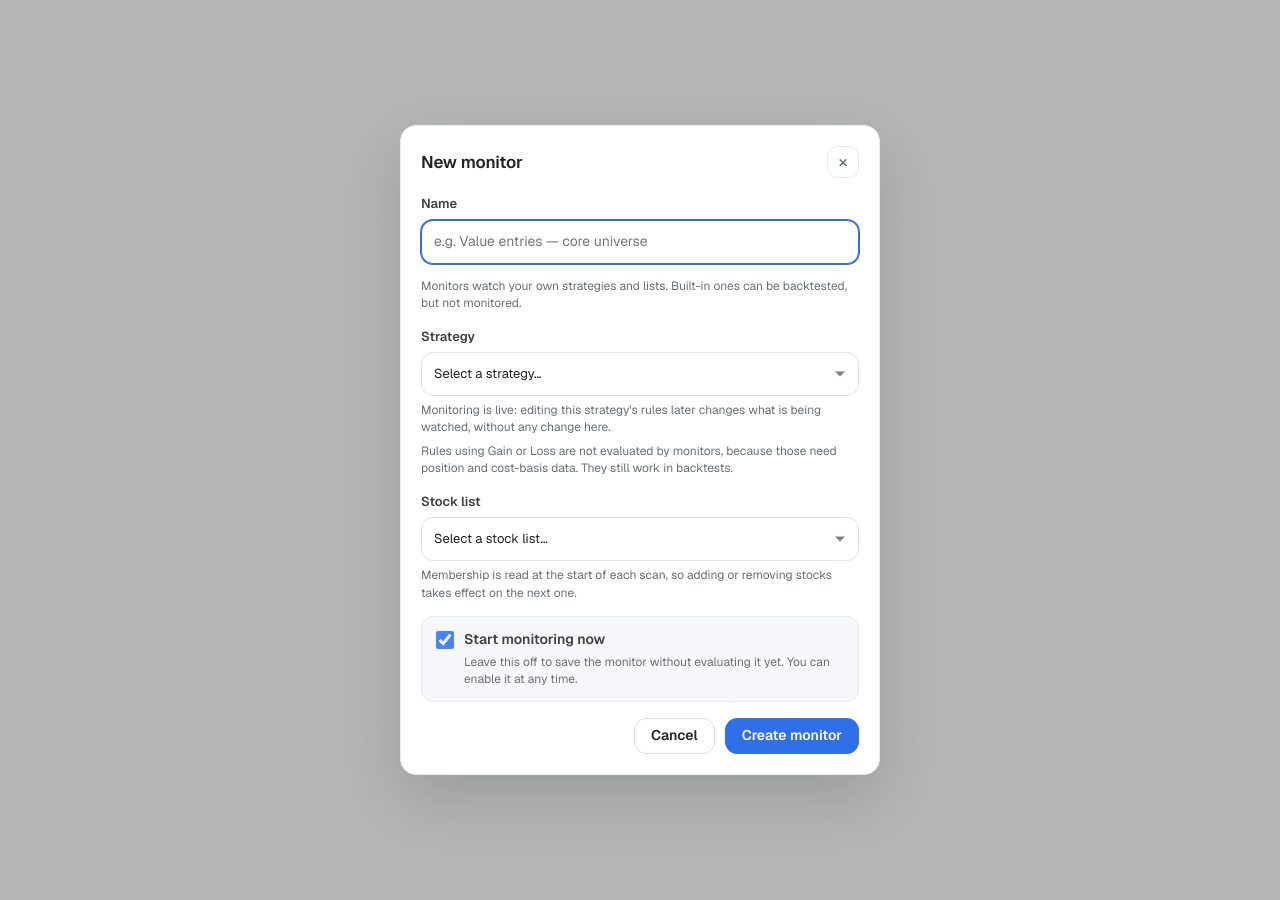
Test: MonitorFormDialog — create › clears a field's complaint as soon as it is answered
Check: the form with test id "monitor-form" is shown, box left=421, top=194, right=859, bottom=754
Click the button with test id "submit-monitor" at (792, 736), box left=725, top=718, right=859, bottom=754
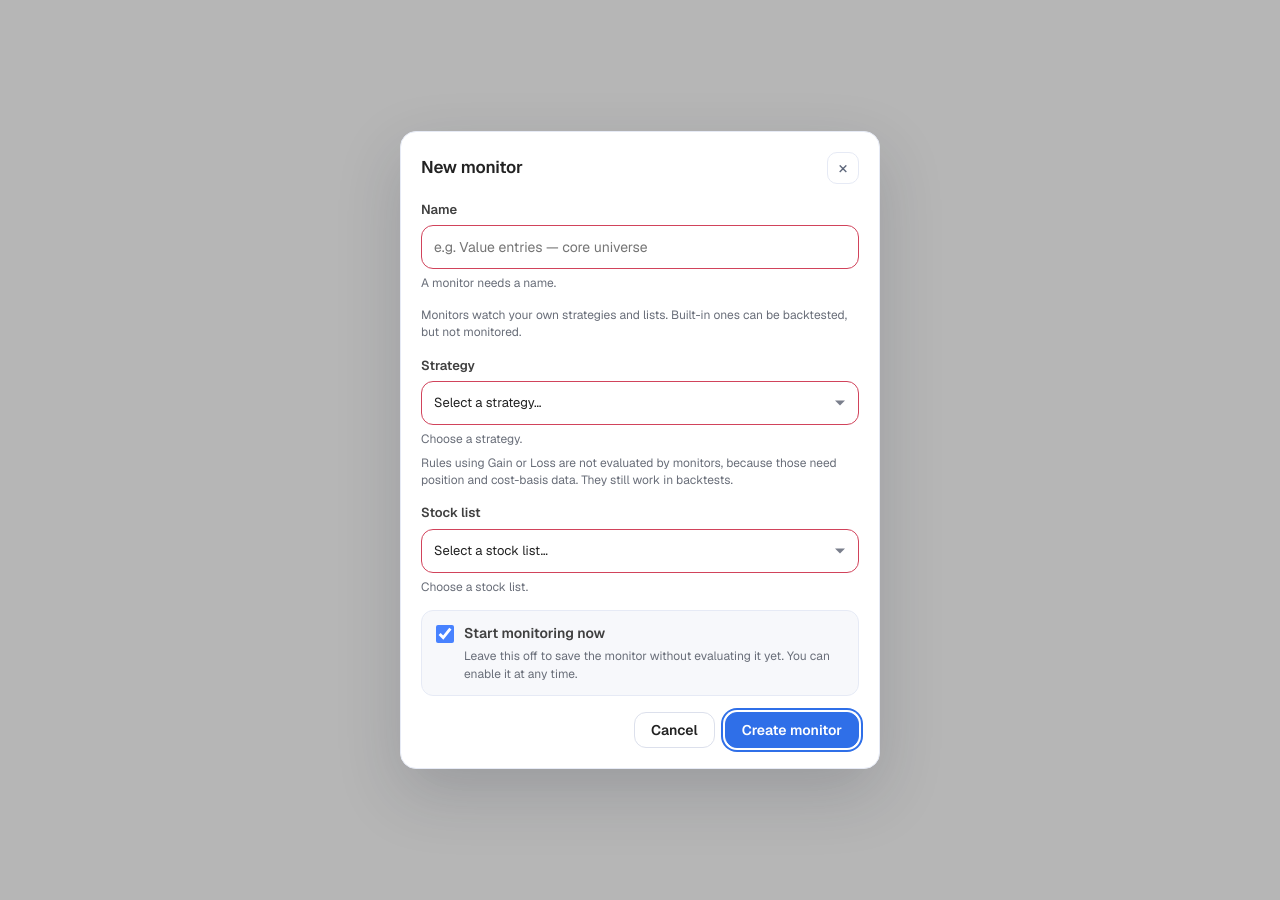
Check: the text "Choose a strategy." is shown, box left=421, top=431, right=522, bottom=447
Select "Deep value" in the dropdown labelled "Strategy" at (640, 403), box left=421, top=381, right=859, bottom=425
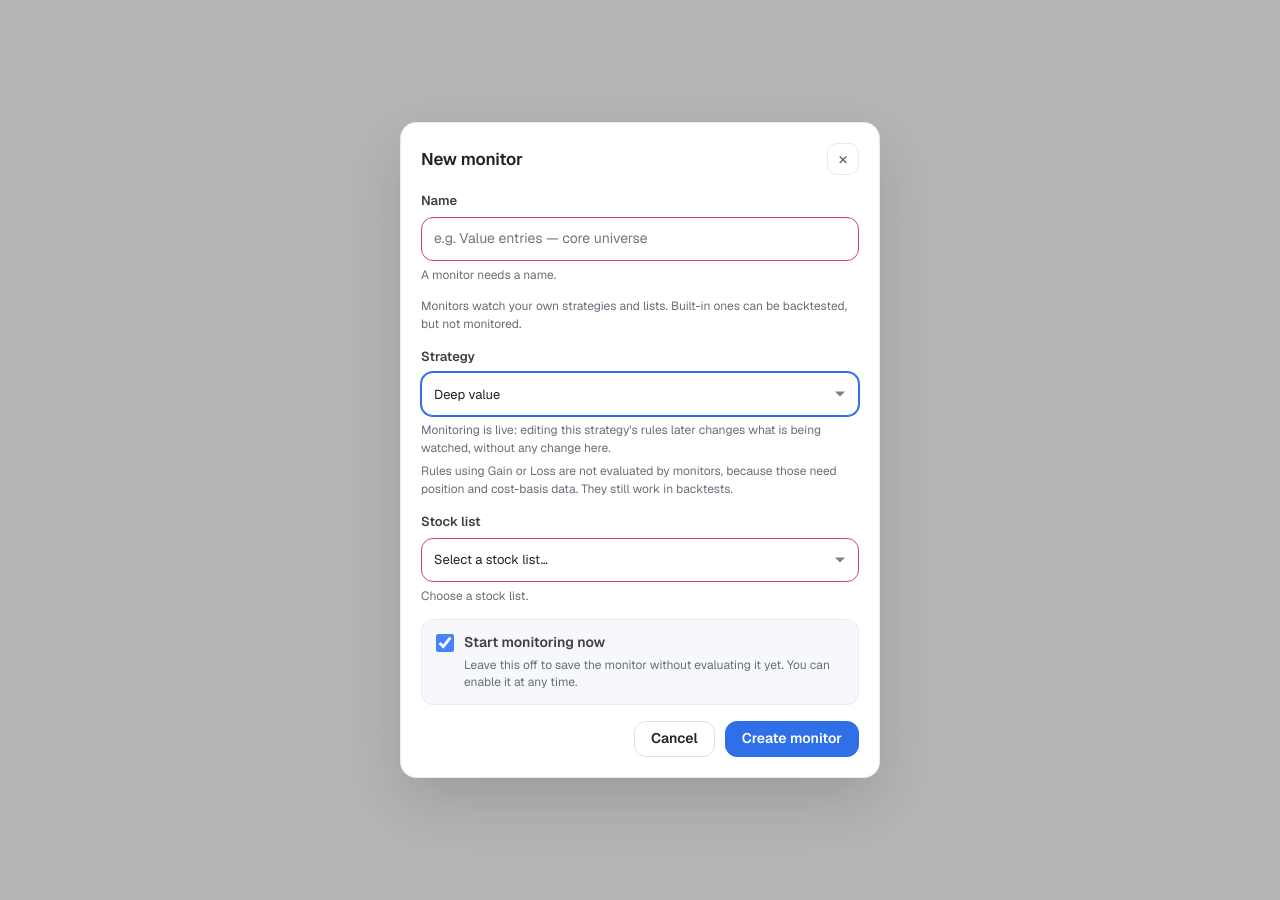
Check: the text "Choose a stock list." is shown, box left=421, top=588, right=528, bottom=604
Check: the text "Choose a strategy." is gone
